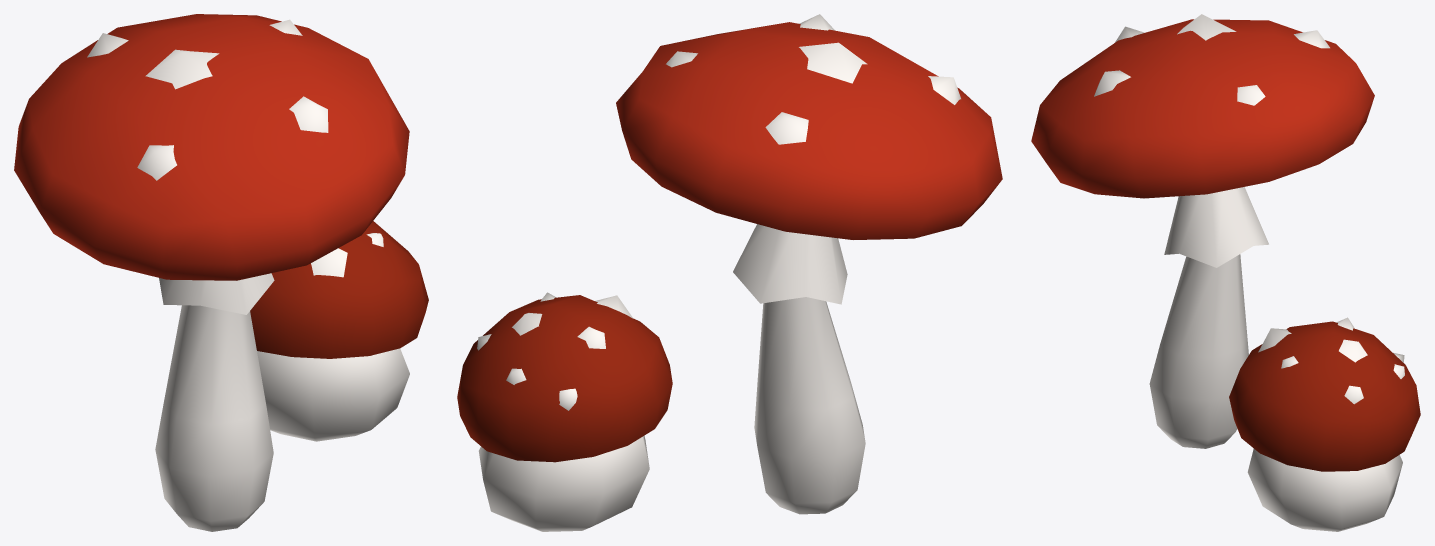
Rendered from Fly_Agaric_Group_1.glb.
3 renders of one model, left to right at view 1: azimuth 30°, elevation 25°; view 2: azimuth 150°, elevation 25°; view 3: azimuth 270°, elevation 25°, orthographic. The views are drawn at different scales.
Visible parts, largest first — view 1: Fly_Agaric_Group_1; view 2: Fly_Agaric_Group_1; view 3: Fly_Agaric_Group_1.
Boxes of the visible parts, x1,y1,x2,y2 form: Fly_Agaric_Group_1: (14, 14, 428, 531); Fly_Agaric_Group_1: (457, 14, 1002, 531); Fly_Agaric_Group_1: (1031, 14, 1420, 531).
Bounding box in the file's own units: 0.3756 × 0.3807 × 0.3279.
1 material, 1 textured.
